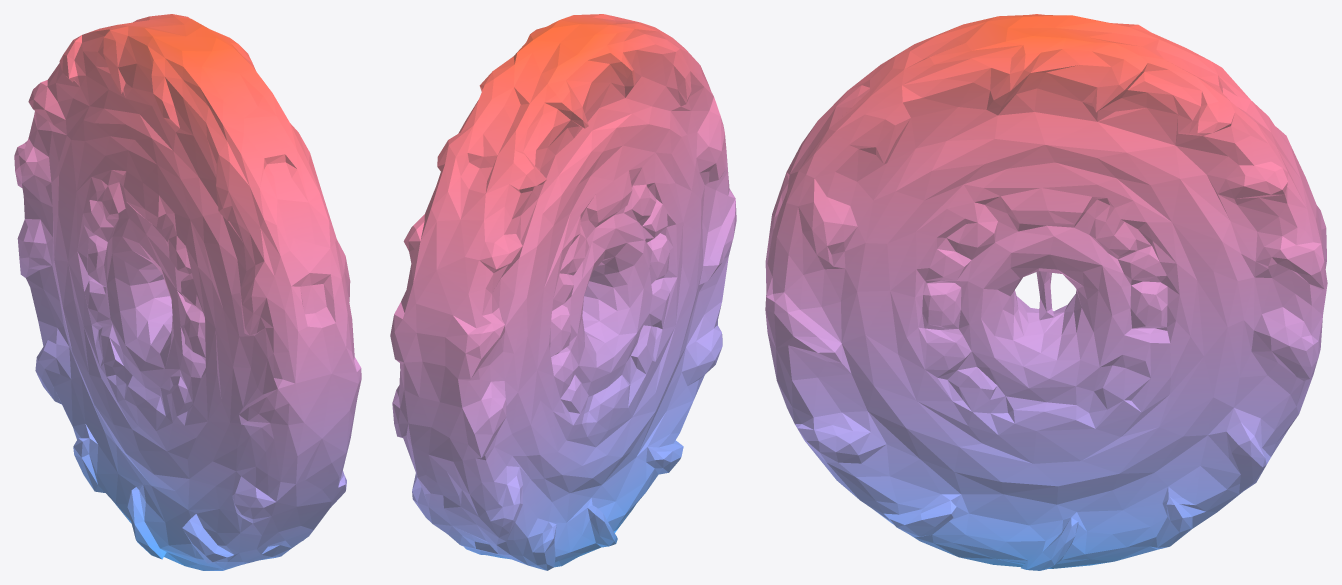
Rendered from 180_cyb_laser_gradient_fish_scales_2916_2026_10_03_905e94.glb.
3 views of the same model, side by side, from view 1: azimuth 30°, elevation 25°; view 2: azimuth 150°, elevation 25°; view 3: azimuth 270°, elevation 25° (orthographic). The views are drawn at different scales.
Visible parts, largest first — view 1: geometry_0; view 2: geometry_0; view 3: geometry_0.
Boxes of the visible parts, bbox=[...] form: geometry_0: bbox=[14, 14, 361, 570]; geometry_0: bbox=[390, 14, 736, 570]; geometry_0: bbox=[765, 14, 1327, 570].
Size of the model in its own units: 0.2167 by 1 by 0.9603.
